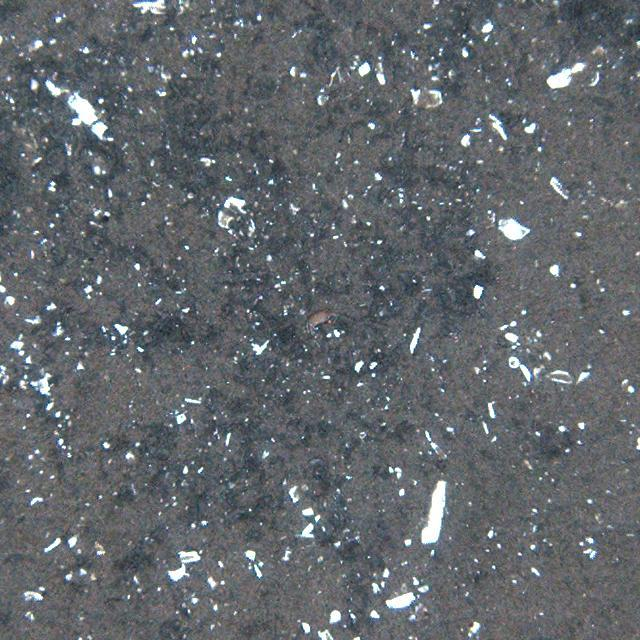crab: (303, 307, 338, 333)
